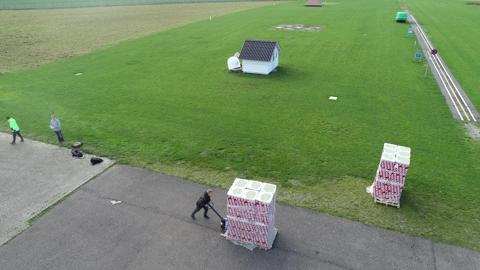RockwoolPallet: (229, 178, 278, 247)
